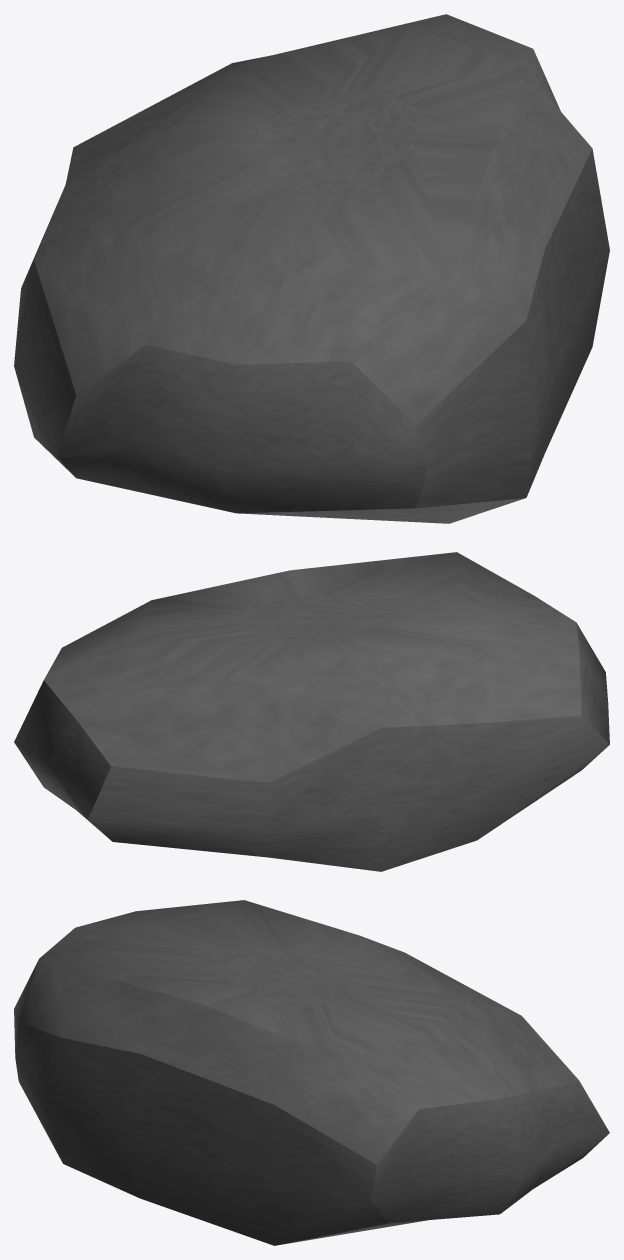
The model's file is Rock_3_Hanin.fbx.
The picture shows the model from 3 angles, top to bottom: view 1: azimuth 30°, elevation 25°; view 2: azimuth 150°, elevation 25°; view 3: azimuth 270°, elevation 25°; orthographic projection. The views are drawn at different scales.
Visible parts, largest first — view 1: pCube22; view 2: pCube22; view 3: pCube22.
Part boxes in pixels (left/top/right/bottom): pCube22: left=14, top=14, right=609, bottom=523; pCube22: left=14, top=552, right=609, bottom=871; pCube22: left=14, top=900, right=609, bottom=1245.
Bounding box in the file's own units: 3.69 × 1.41 × 3.97.
